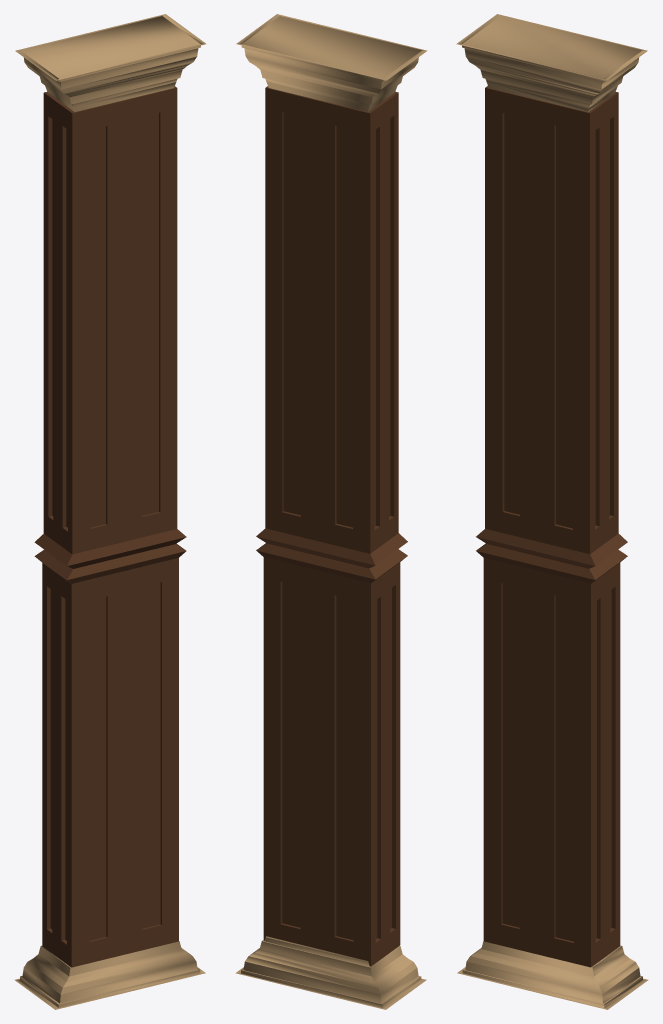
Rendered from Arch_Pillar_small.fbx.
The picture shows the model from 3 angles, left to right: view 1: azimuth 30°, elevation 25°; view 2: azimuth 150°, elevation 25°; view 3: azimuth 330°, elevation 25°; orthographic projection.
Visible parts, largest first — view 1: PillarSmall; view 2: PillarSmall; view 3: PillarSmall.
Part boxes in pixels (x1,y1,x2,y2): PillarSmall: (14,14,206,1009); PillarSmall: (235,14,427,1009); PillarSmall: (456,14,648,1009).
Bounding box in the file's own units: 58.3 × 343 × 28.03.
